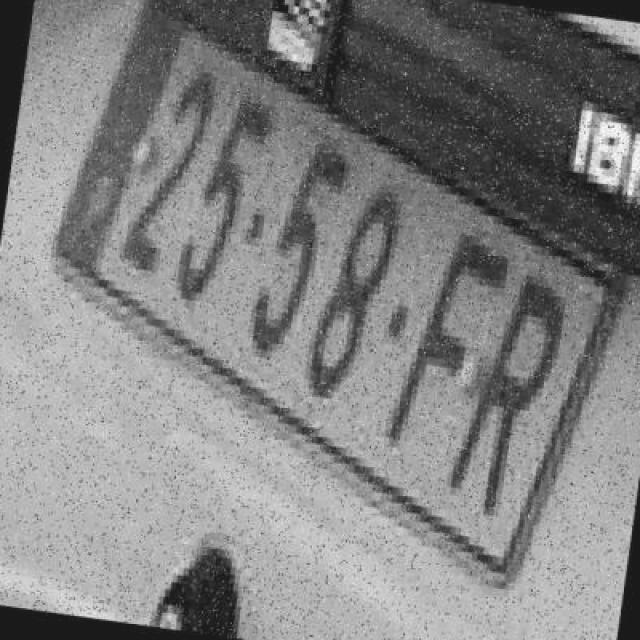licenseplate: (13, 0, 640, 610)
